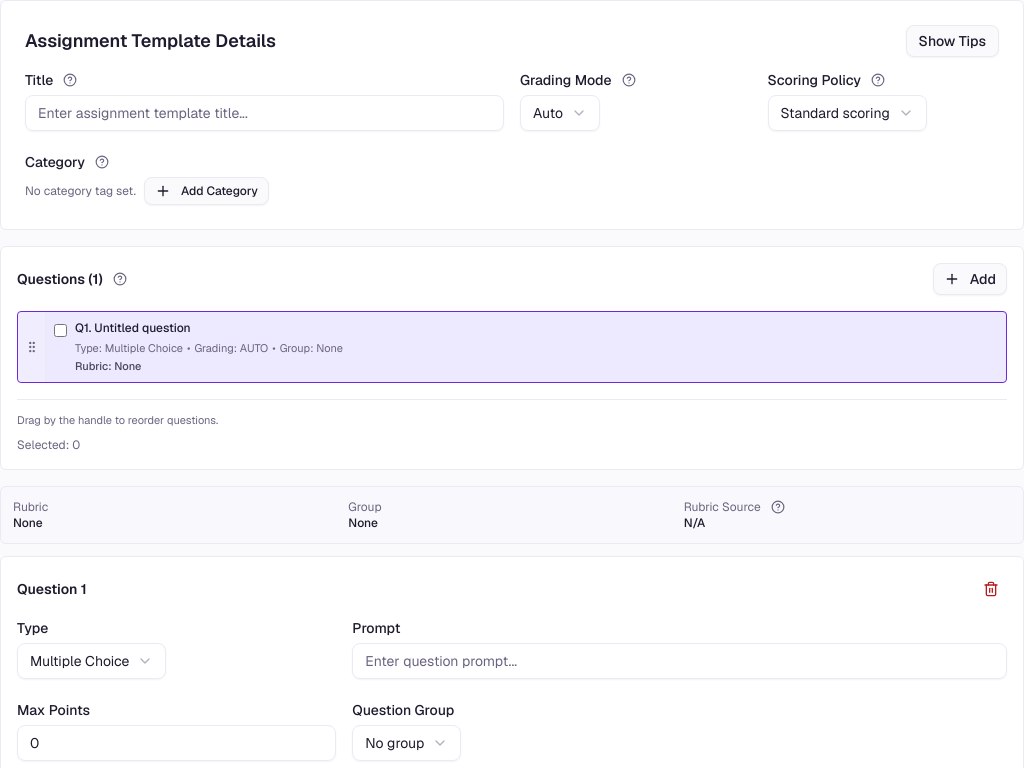
Test case: AssignmentTemplateBuilderForm › adds a new question when Add button is clicked
Click the button "Add". click: (970, 279)
box: left=933, top=263, right=1007, bottom=295
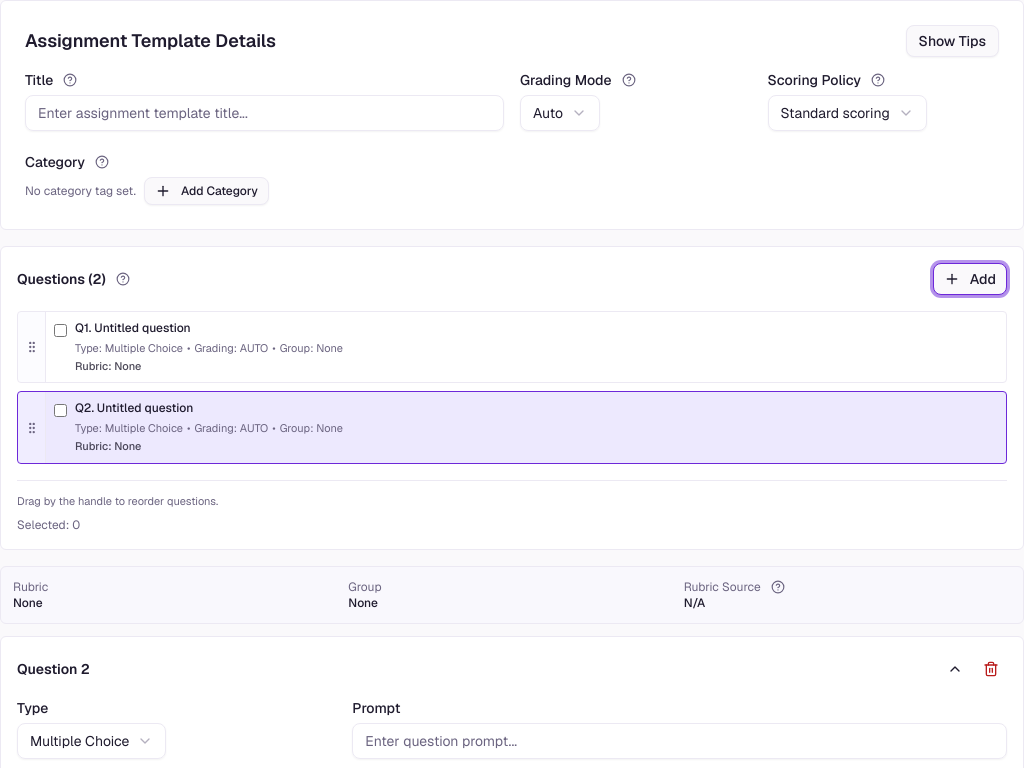
Now the heading "Questions (2)" is shown, box left=17, top=269, right=106, bottom=289
